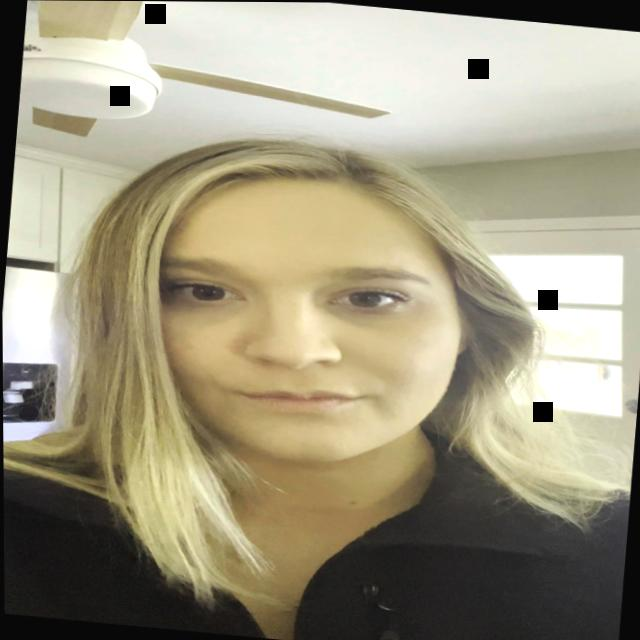NO-Mask: (112, 145, 507, 505)
